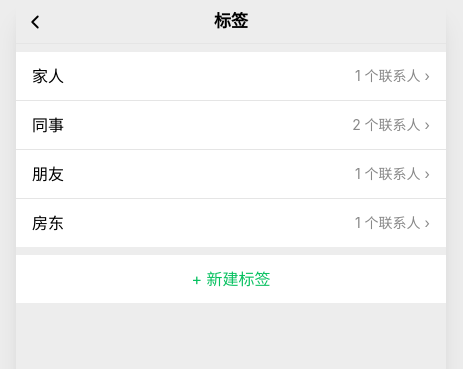
标签管理页面 › 新建标签后出现在列表
Click the button with test id "tag-create-button" at coordinates (231, 279), box [32,267,430,291]
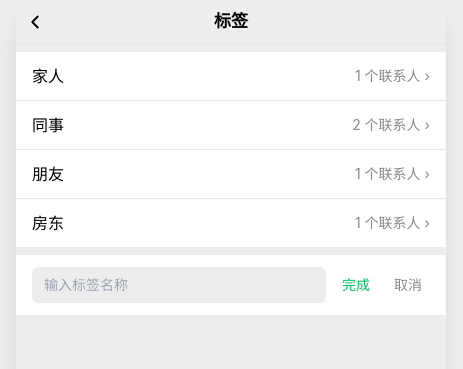
Type "闺蜜" into the field with test id "tag-create-input" at coordinates (179, 285), box [32,267,326,303]
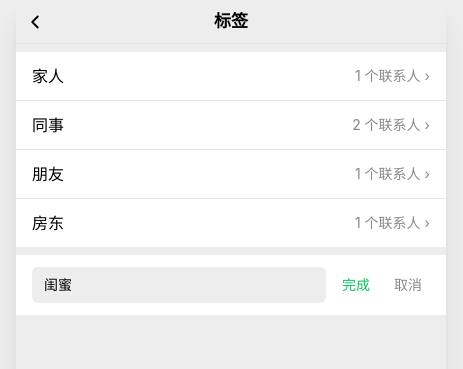
Click the button with test id "tag-create-confirm" at coordinates (356, 285), box [334,275,378,295]
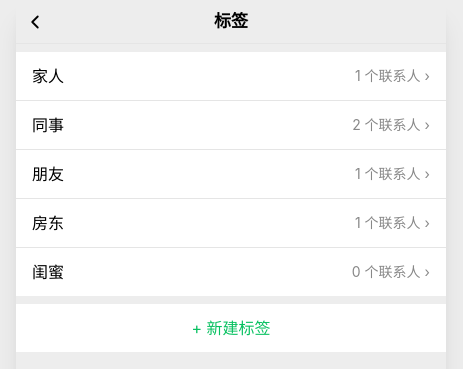
Expected: the button with test id "tag-row-闺蜜" is shown, [16,247,446,296]
